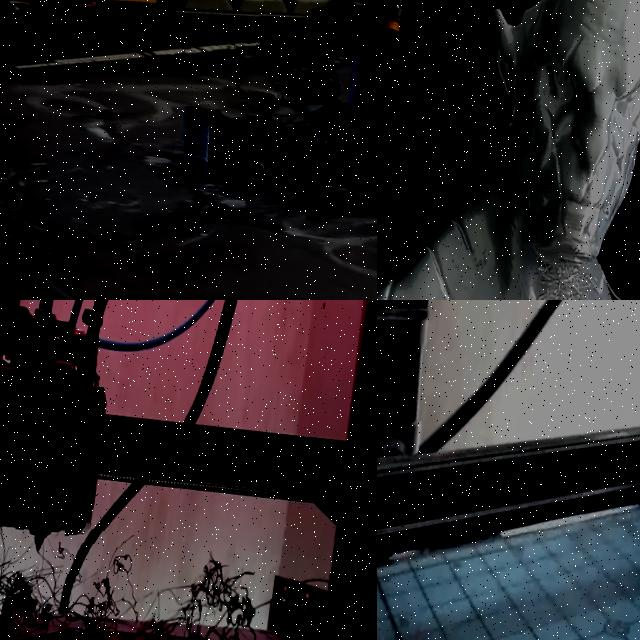spaghetti: (0, 510, 374, 640), (213, 0, 377, 216)
